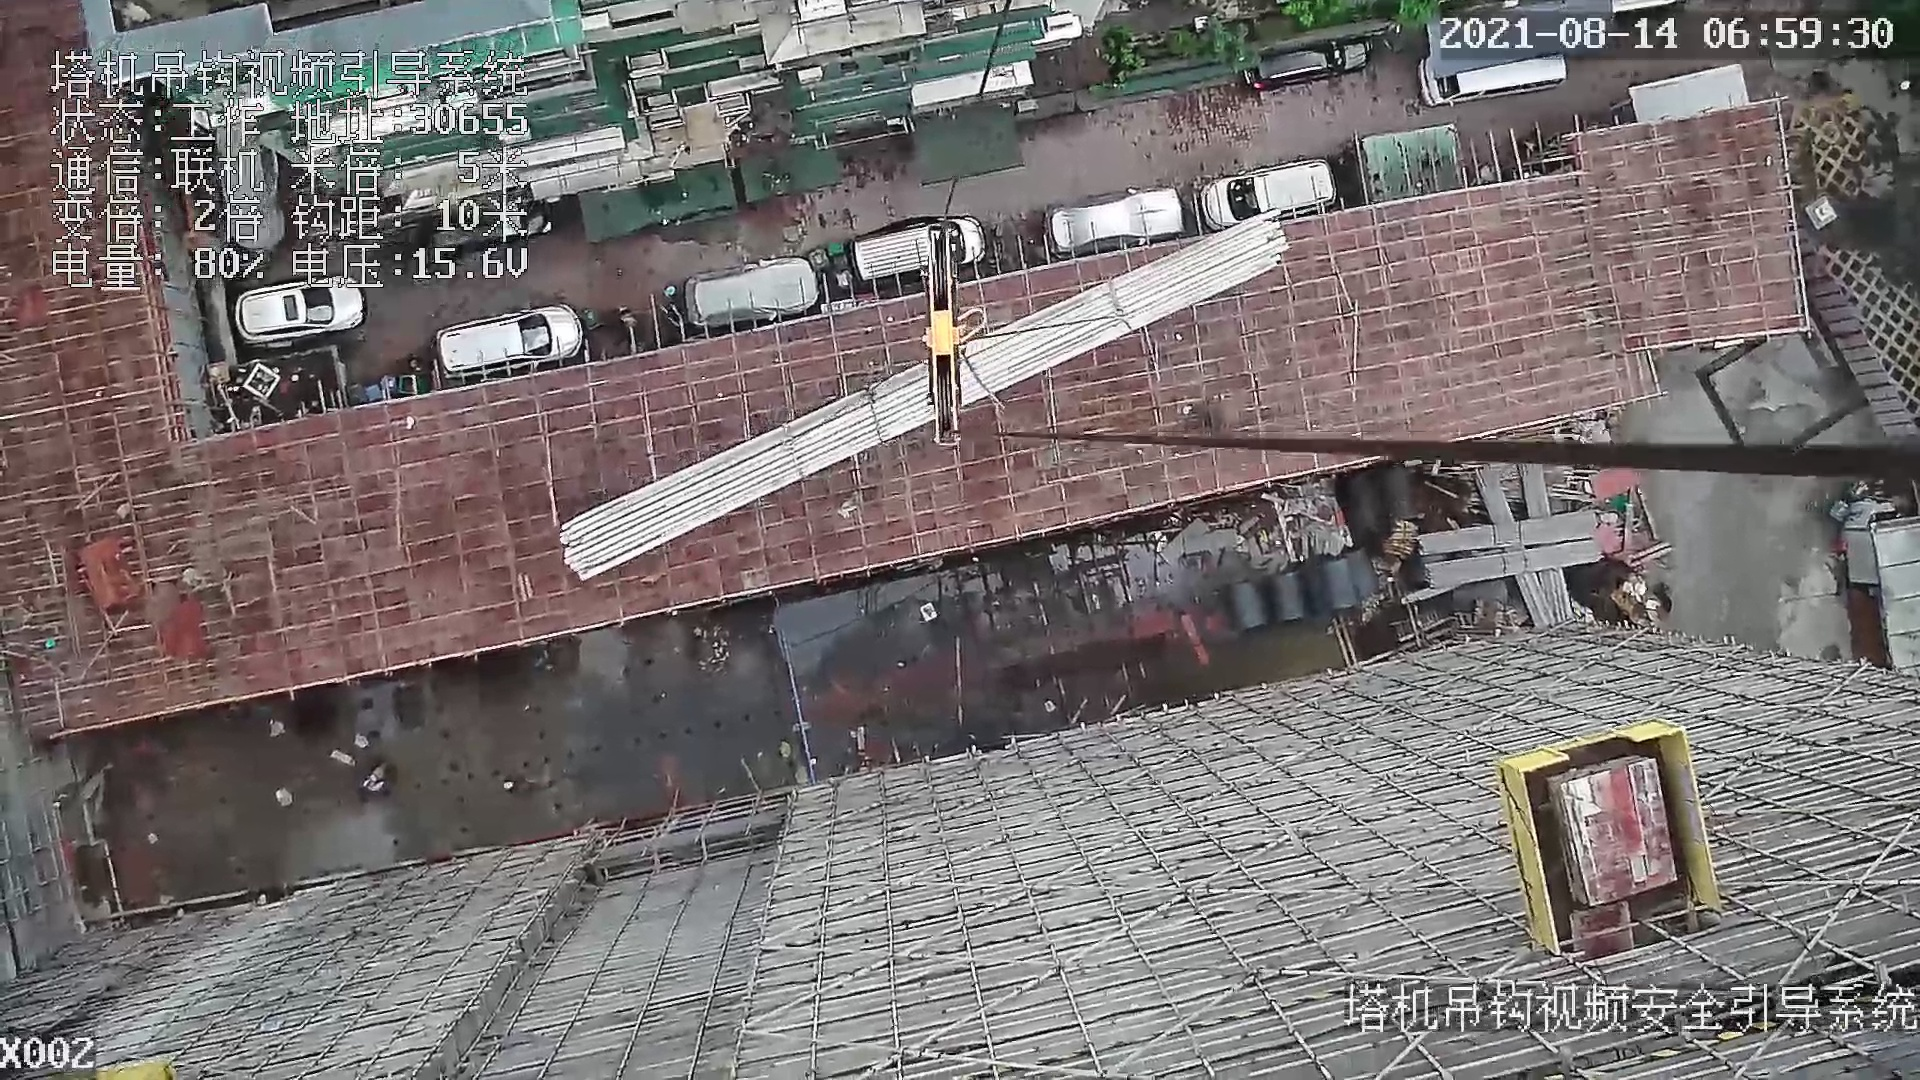board: (1548, 754, 1677, 905)
hook: (919, 228, 985, 455)
rebar: (563, 207, 1279, 582), (1476, 472, 1552, 625), (1425, 541, 1598, 589), (1419, 509, 1596, 556), (1519, 464, 1571, 618)
wood: (1385, 520, 1418, 560)
